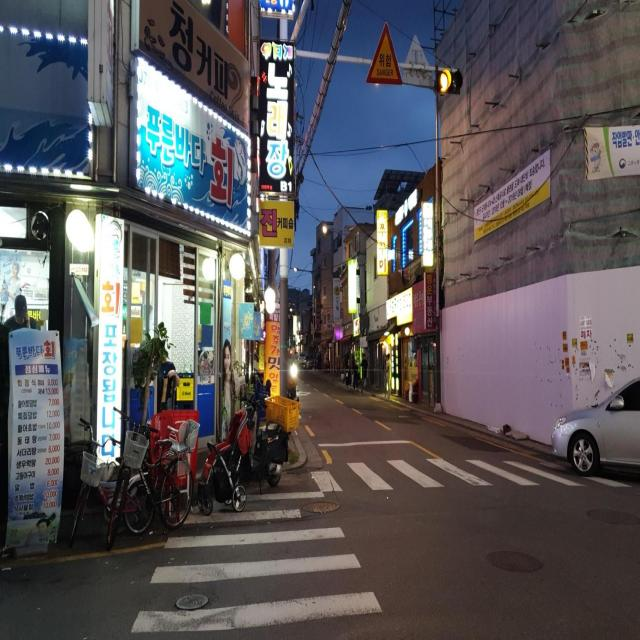횡단보도: (128, 486, 383, 640), (301, 447, 627, 492)
